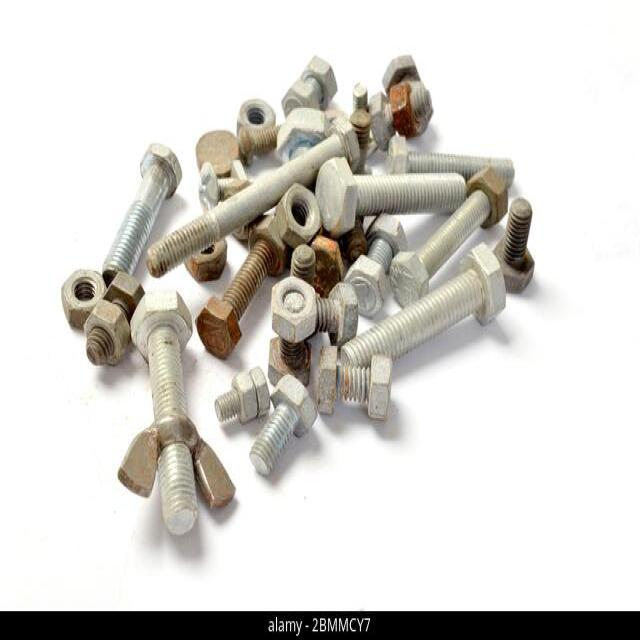Bolt: (341, 240, 506, 375), (132, 295, 194, 543), (98, 144, 184, 287), (195, 230, 286, 364), (315, 155, 463, 229), (244, 371, 314, 479), (386, 138, 515, 186), (319, 351, 397, 424), (497, 189, 538, 296), (216, 363, 268, 431)
Nut: (272, 280, 316, 344), (276, 182, 321, 242), (62, 267, 104, 327), (467, 167, 507, 229), (235, 94, 277, 148), (367, 354, 395, 432), (248, 219, 286, 274), (185, 236, 227, 285), (233, 370, 254, 424)
